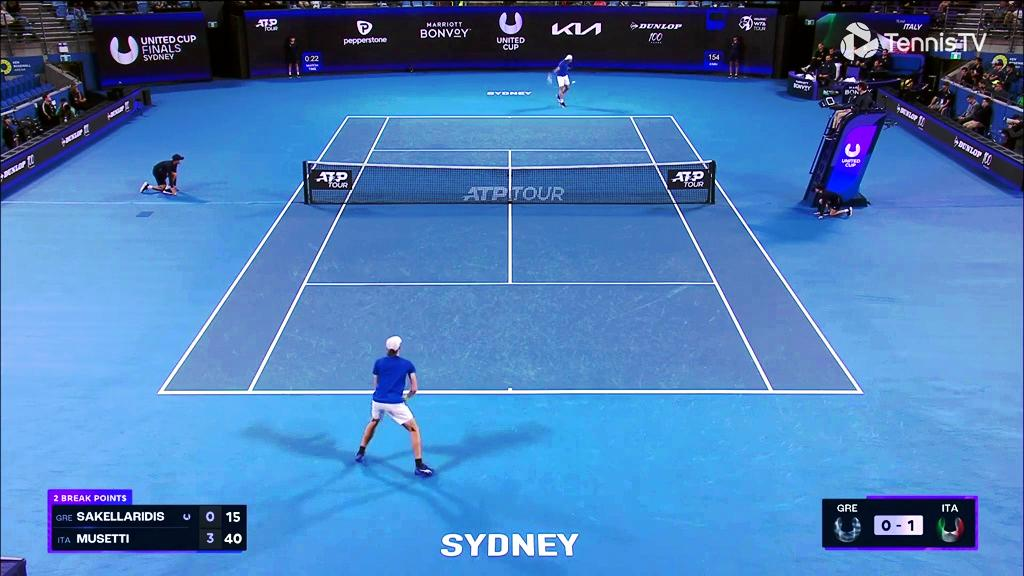tennis-court: (156, 115, 865, 394)
